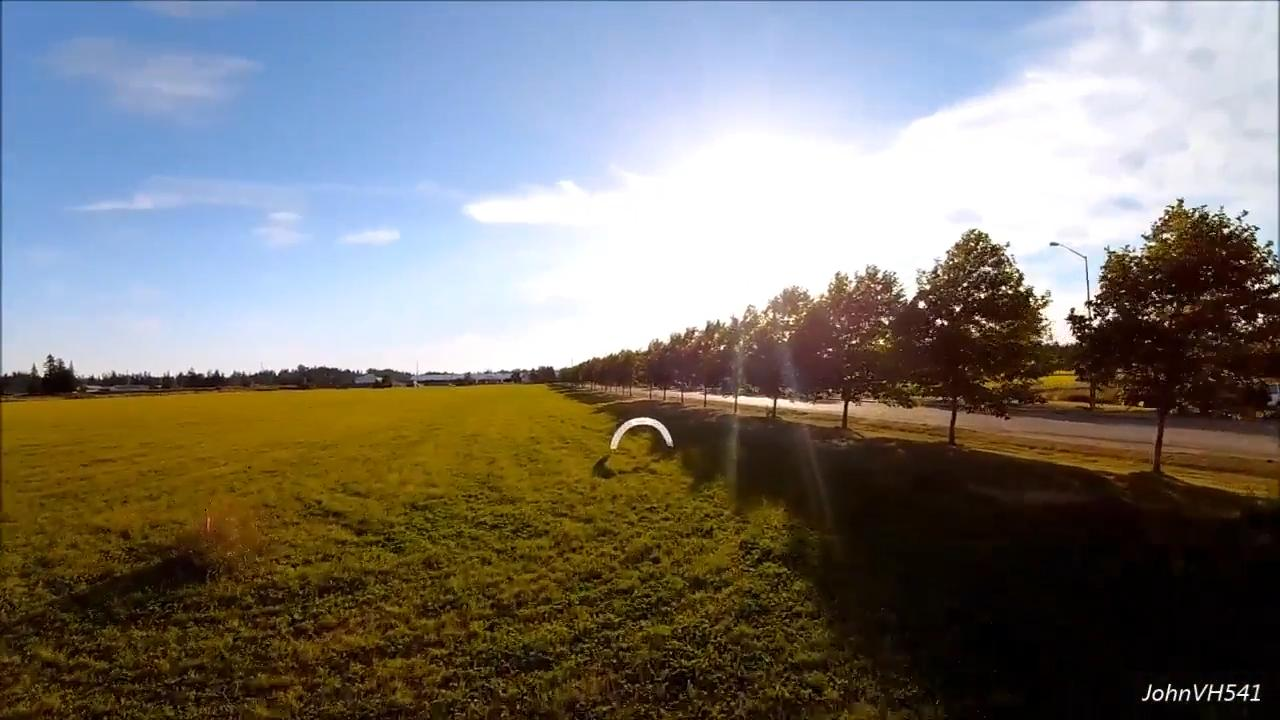gate: (609, 415, 678, 454)
